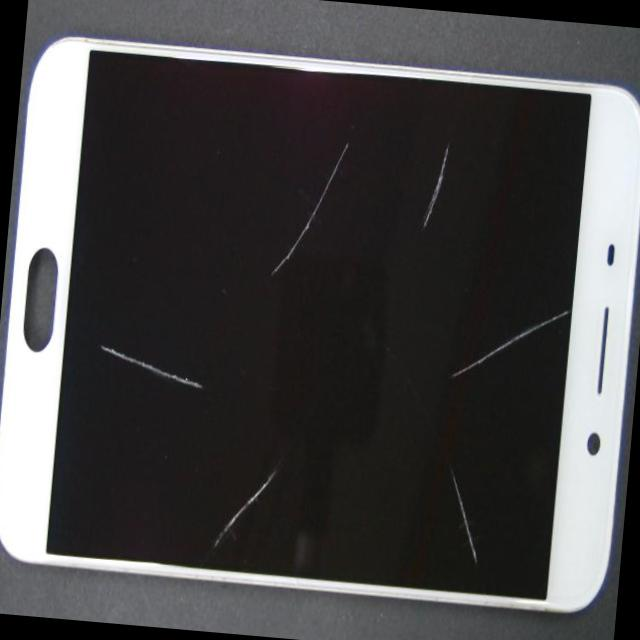scratch: (441, 297, 565, 398), (270, 130, 352, 280), (203, 446, 280, 558), (96, 335, 204, 393), (414, 137, 454, 230), (444, 469, 484, 562)
